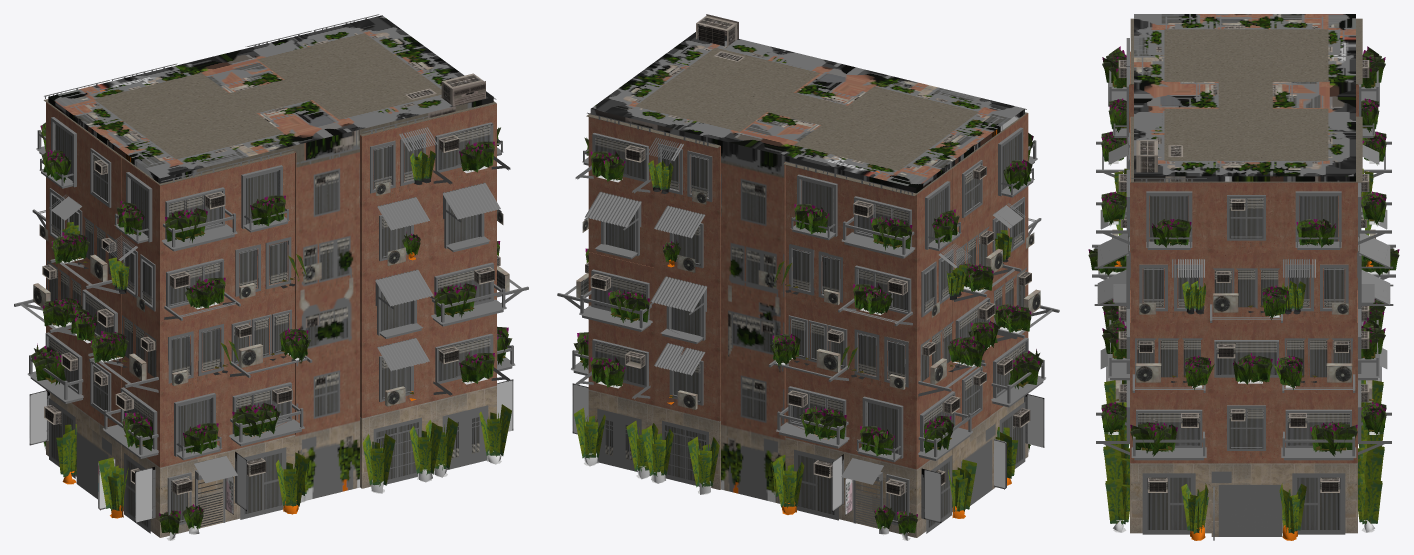
Rendered from nc_building_01.fbx.
3 renders of one model, left to right at view 1: azimuth 30°, elevation 25°; view 2: azimuth 150°, elevation 25°; view 3: azimuth 270°, elevation 25°, orthographic. The views are drawn at different scales.
Parts seen in each view (by area): view 1: nc_building_01_LOD0; view 2: nc_building_01_LOD0; view 3: nc_building_01_LOD0.
Boxes of the visible parts, x1=… form: nc_building_01_LOD0: x1=14, y1=14, x2=528, y2=540; nc_building_01_LOD0: x1=557, y1=14, x2=1059, y2=540; nc_building_01_LOD0: x1=1088, y1=14, x2=1399, y2=540.
Size of what is drawn, in the model's own units: 12.18 by 10.66 by 8.05.
